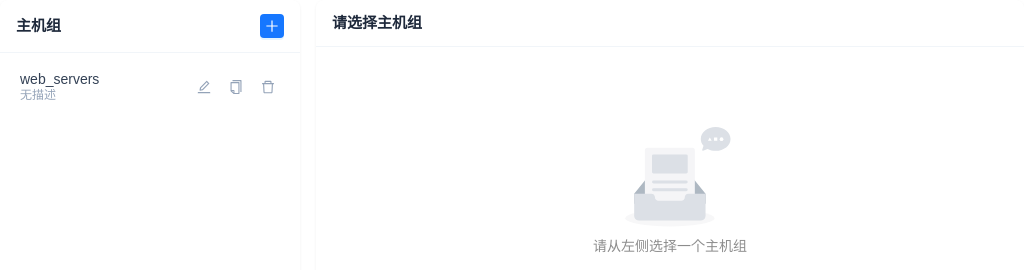
Test: HostGroupManager › loads hosts when a host group is selected
Click the text "web_servers" at (60, 79), box [20,71,99,87]
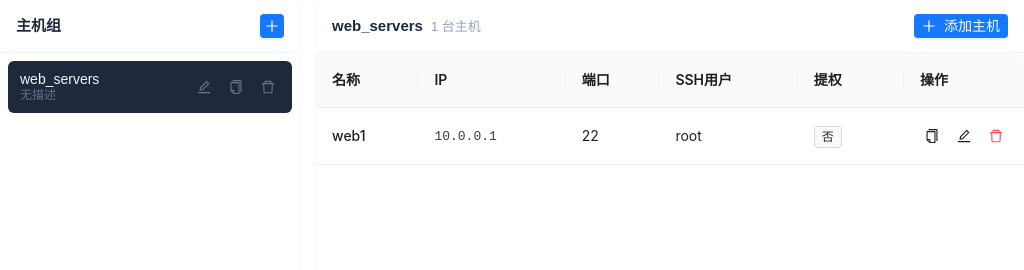
expect the text "web1" is shown: met, box [332,127,366,144]
expect the text "10.0.0.1" is shown: met, box [434,129,497,144]
